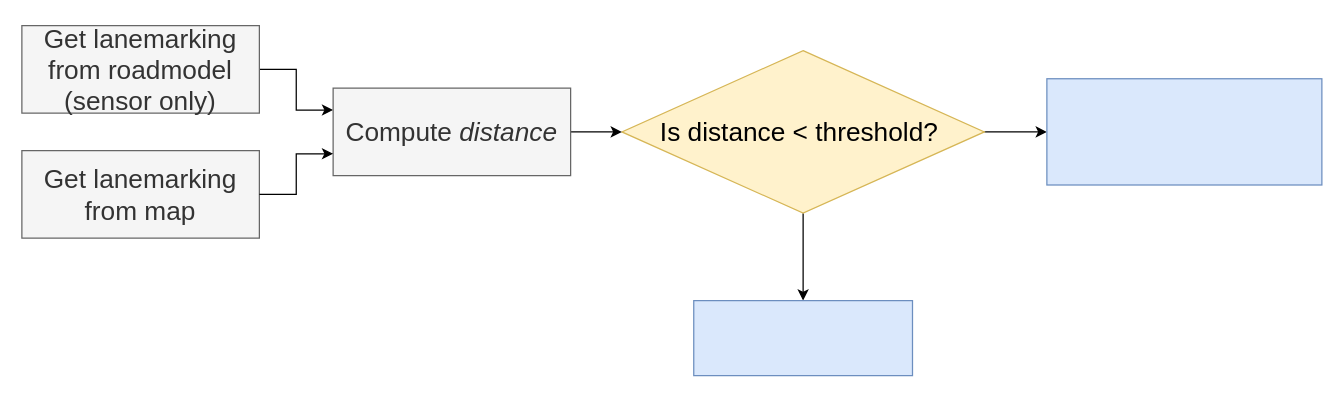
Some shapes in this 1344 by 398 pixel diagram are drawn without their labels. The box of each missing label's shape, as (x1, y1, x2, y2) in pixels:
Set lanemarking match to detected: (692, 299, 912, 376)
Set lanemarking match to not-detected: (1046, 78, 1322, 185)
